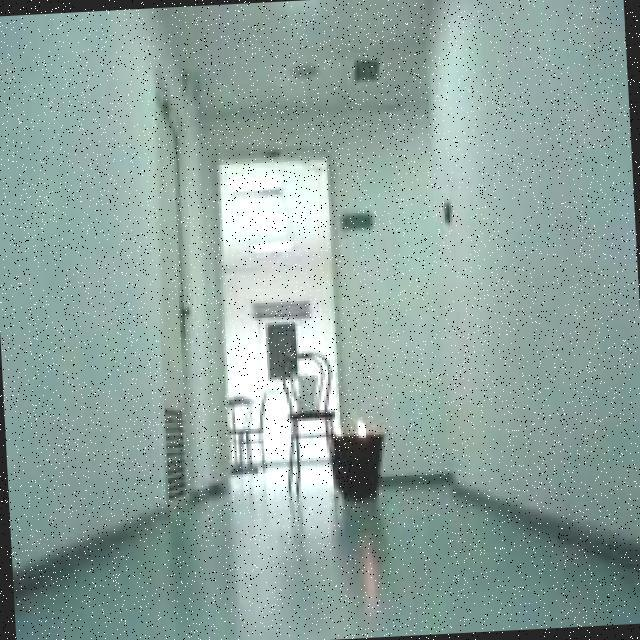Fire: (351, 421, 373, 441)
